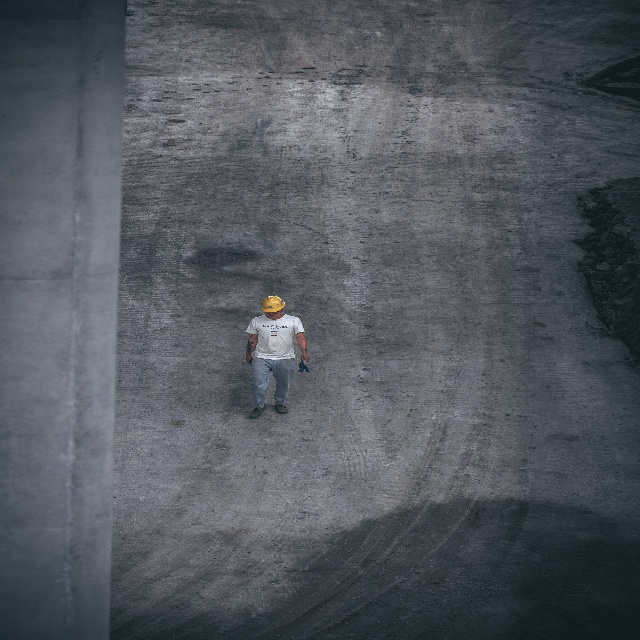Gafas: (265, 311, 278, 314)
Guantes: (298, 361, 309, 374)
Sin_guantes: (300, 352, 309, 362), (245, 354, 253, 364)
